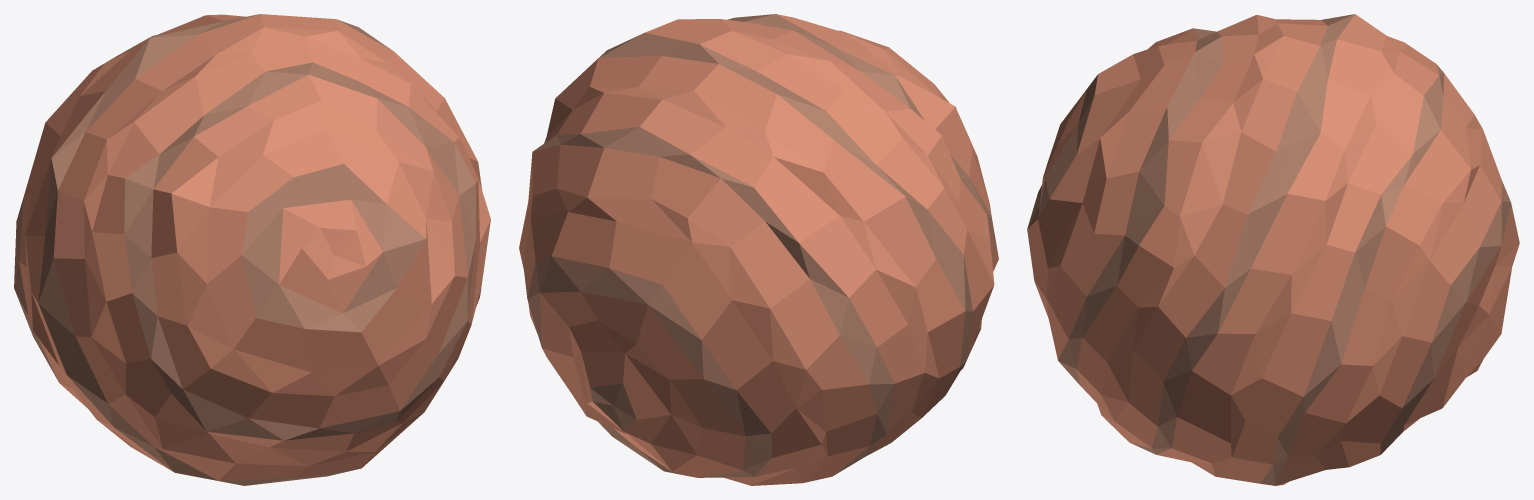
The model's file is venus.fbx.
The picture shows the model from 3 angles, left to right: view 1: azimuth 30°, elevation 25°; view 2: azimuth 150°, elevation 25°; view 3: azimuth 270°, elevation 25°; orthographic projection. The views are drawn at different scales.
Visible parts, largest first — view 1: Venus; view 2: Venus; view 3: Venus.
Part boxes in pixels (box(x1,y1,x2,y2)): Venus: box(14, 14, 490, 485); Venus: box(519, 14, 998, 485); Venus: box(1027, 14, 1519, 485).
Size of the model in its own units: 183 by 181 by 186.
